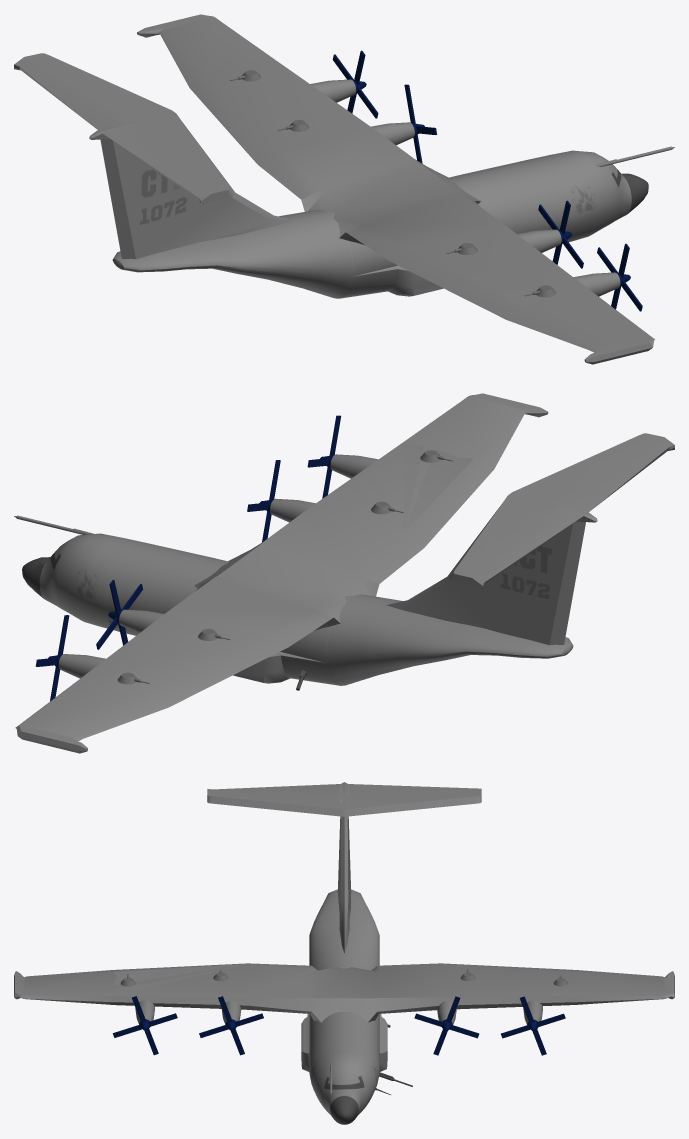
3 views of the same model, one above another, from view 1: azimuth 30°, elevation 25°; view 2: azimuth 150°, elevation 25°; view 3: azimuth 270°, elevation 25° (orthographic). The views are drawn at different scales.
Parts seen in each view (by area): view 1: Wings, Body, Tail, Wings broken, Rotor.003, Rotor.002, Rotor.001, Engine.003, Engine.001, Engine.002, Engine, Rotor; view 2: Wings, Body, Tail, Wings broken, Rotor, Engine.001, Engine.003, Engine, Engine.002, Rotor.001, Rotor.003, Rotor.002; view 3: Wings, Body, Tail, Wings broken, Rotor.001, Rotor, Rotor.003, Rotor.002.
Part boxes in pixels (box(x1,y1,x2,y2)): Wings: box(137, 14, 654, 364); Body: box(112, 150, 648, 298); Tail: box(14, 53, 294, 259); Wings broken: box(411, 247, 591, 308); Rotor.003: box(597, 243, 642, 311); Rotor.002: box(538, 200, 583, 268); Rotor.001: box(332, 50, 378, 118); Engine.003: box(573, 272, 620, 296); Engine.001: box(310, 79, 355, 102); Engine.002: box(517, 229, 561, 252); Engine: box(371, 122, 414, 145); Rotor: box(404, 84, 437, 163); Wings: box(15, 393, 548, 753); Body: box(22, 533, 573, 685); Tail: box(386, 433, 674, 645); Wings broken: box(403, 441, 473, 531); Rotor: box(96, 580, 142, 649); Engine.001: box(58, 654, 105, 678); Engine.003: box(330, 454, 378, 478); Engine: box(119, 609, 164, 633); Engine.002: box(270, 498, 315, 522); Rotor.001: box(35, 615, 69, 701); Rotor.003: box(307, 415, 341, 498); Rotor.002: box(247, 460, 280, 542); Wings: box(14, 963, 674, 1022); Body: box(301, 889, 387, 1124); Tail: box(207, 782, 481, 952); Wings broken: box(110, 964, 247, 1009); Rotor.001: box(501, 996, 565, 1055); Rotor: box(414, 996, 479, 1055); Rotor.003: box(112, 996, 177, 1055); Rotor.002: box(199, 996, 263, 1055).
Bounding box in the file's own units: 4347 × 3214 × 1183.
Materials: 20 (2 with a texture image).
